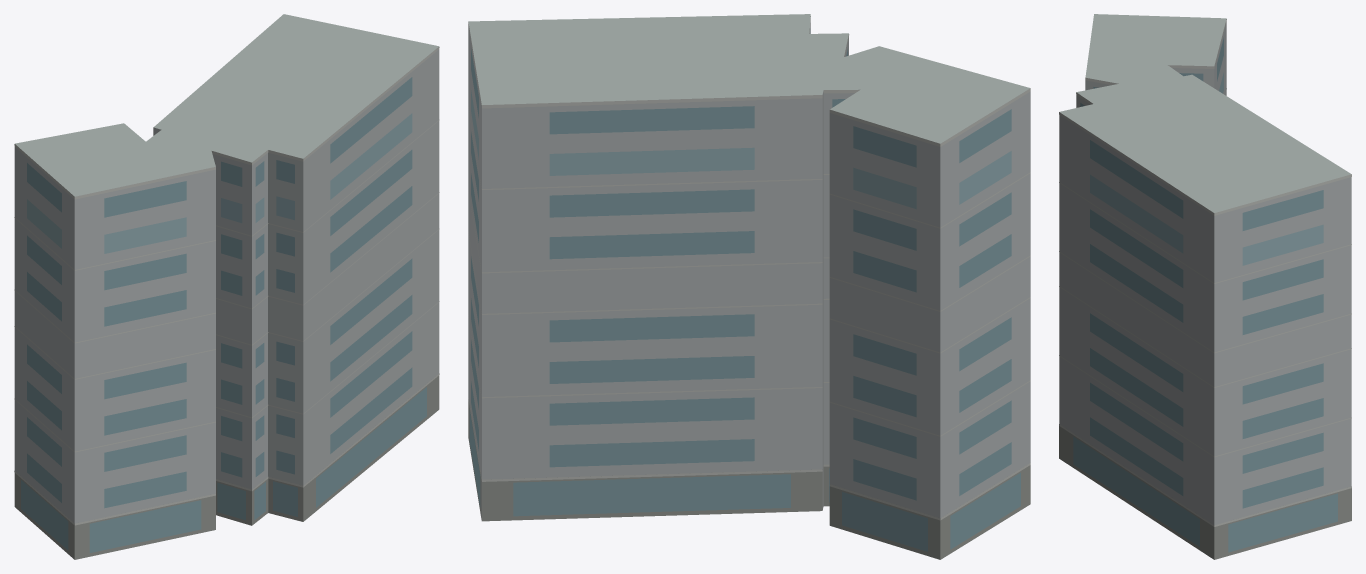
File: survey-upis-32953846.glb
The picture shows the model from 3 angles, left to right: view 1: azimuth 30°, elevation 25°; view 2: azimuth 150°, elevation 25°; view 3: azimuth 270°, elevation 25°; orthographic projection. The views are drawn at different scales.
Parts seen in each view (by area): view 1: survey-upis-32953846.tmp; view 2: survey-upis-32953846.tmp; view 3: survey-upis-32953846.tmp.
Part boxes in pixels (x1,y1,x2,y2): survey-upis-32953846.tmp: [14, 14, 439, 559]; survey-upis-32953846.tmp: [468, 14, 1030, 559]; survey-upis-32953846.tmp: [1059, 14, 1351, 559].
Bounding box in the file's own units: 37.97 × 30.8 × 23.58.
